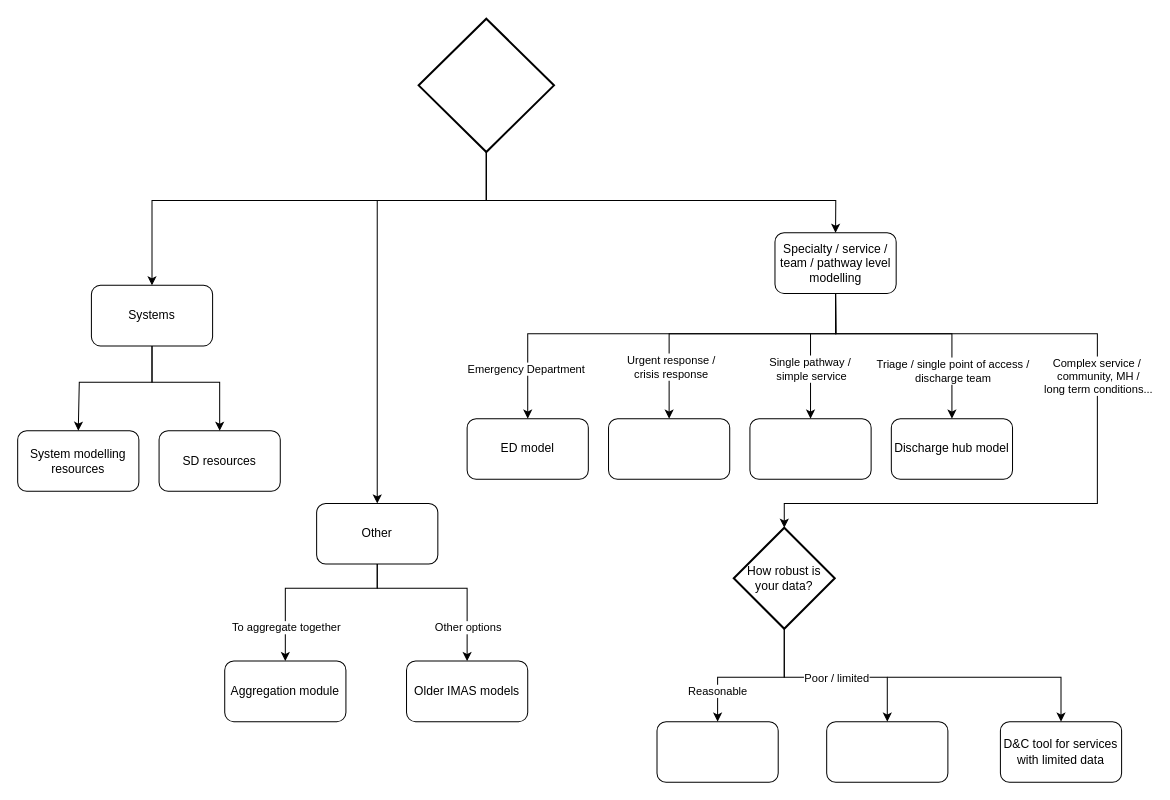
This 1170x800 diagram has some shape labels left out. Each missing label, with the box of its shape:
Caseload model: (656, 721, 778, 782)
Core model: (749, 418, 871, 479)
D&C Lite model: (826, 721, 948, 782)
UR model: (608, 418, 730, 479)
What are you looking to model?: (417, 17, 554, 153)
